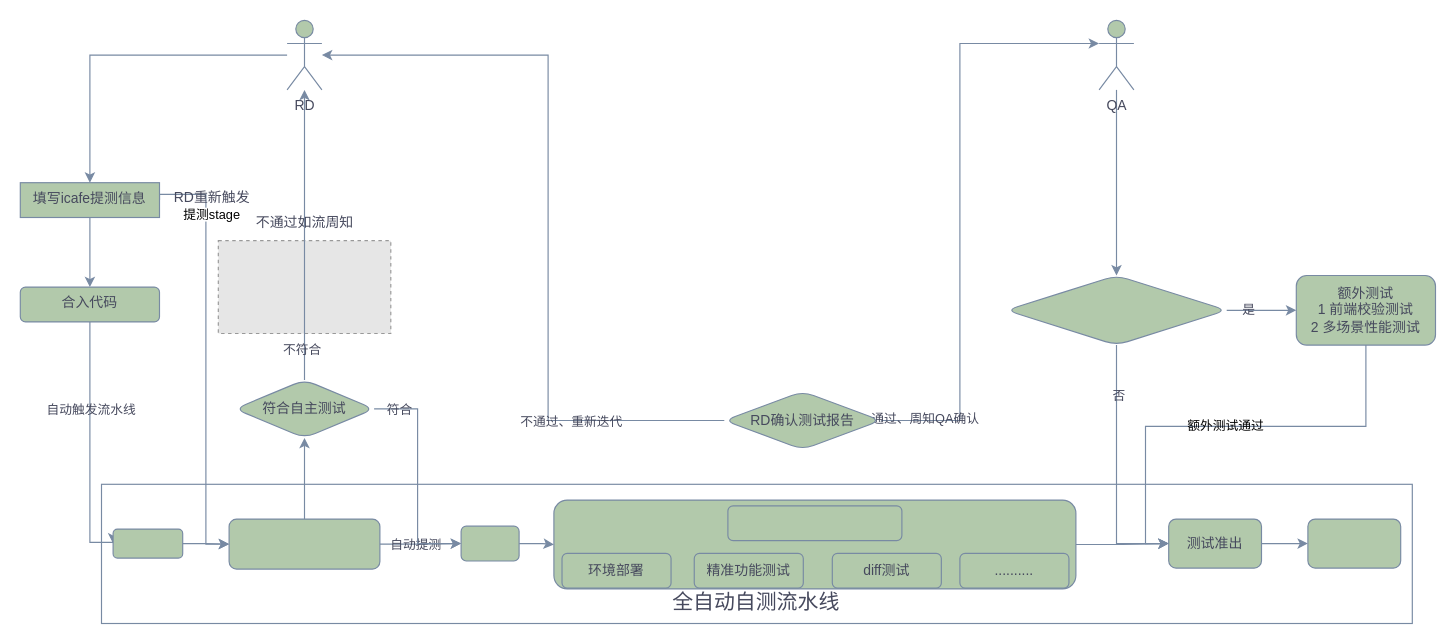
This 1456x644 diagram has some shape labels left out. Grey dashed boxes stand in for pictures. The box of each missing label's shape, as (x1, y1, x2, y2) in pixels:
863上线: (1307, 518, 1401, 568)
云端编译: (112, 528, 183, 558)
发布: (460, 525, 519, 561)
执行测试并生成包报告: (727, 505, 902, 541)
提测阶段 1 符合自主测试判断 2 执行提测job: (228, 518, 380, 569)
确认并判断 是否补充测试: (1005, 274, 1227, 345)
